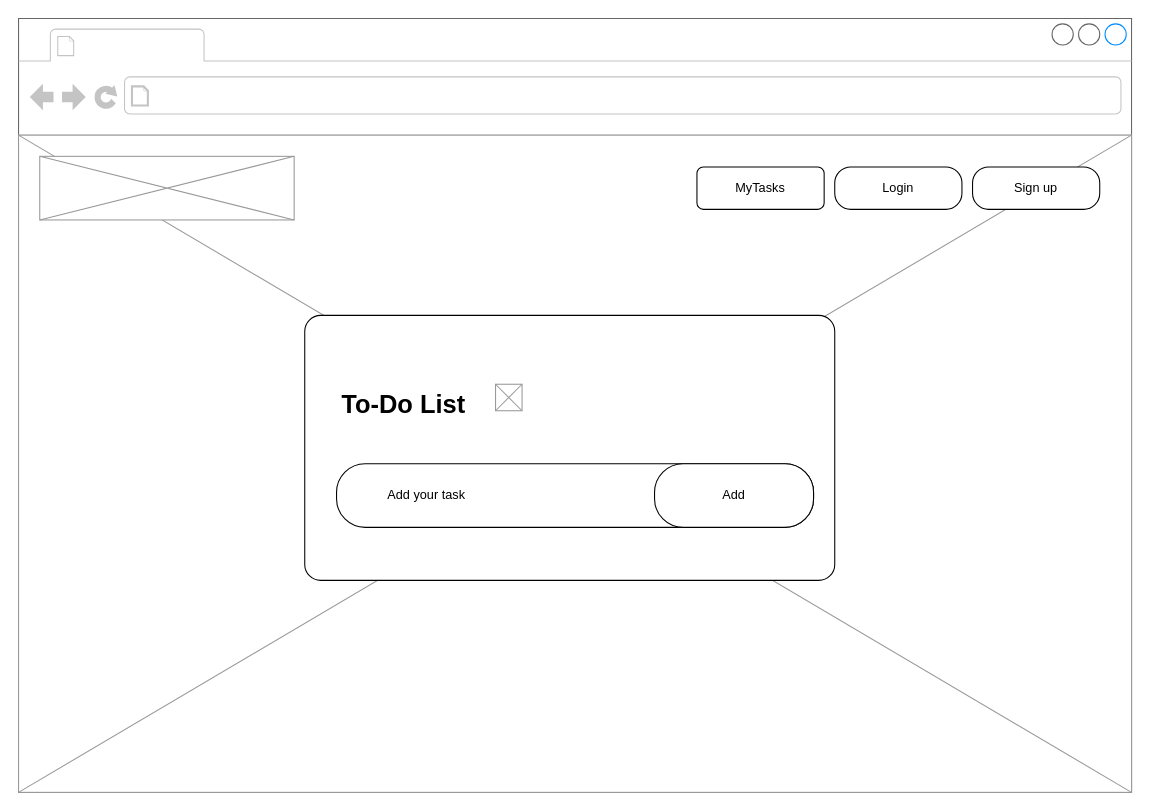
Image size: 1150x811. Some labels were removed from this diagram. The shapes that lost their labels are listed below. From the top down, each one's box as (x1, y1, x2, y2) in pixels, then its label:
(81, 30, 199, 59): Page 1
(155, 81, 421, 110): https://www.default.com
